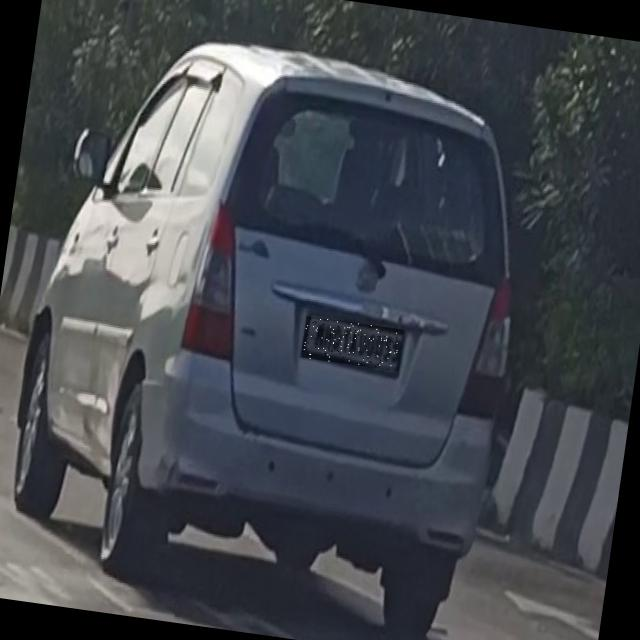Plate: (302, 318, 406, 373)
